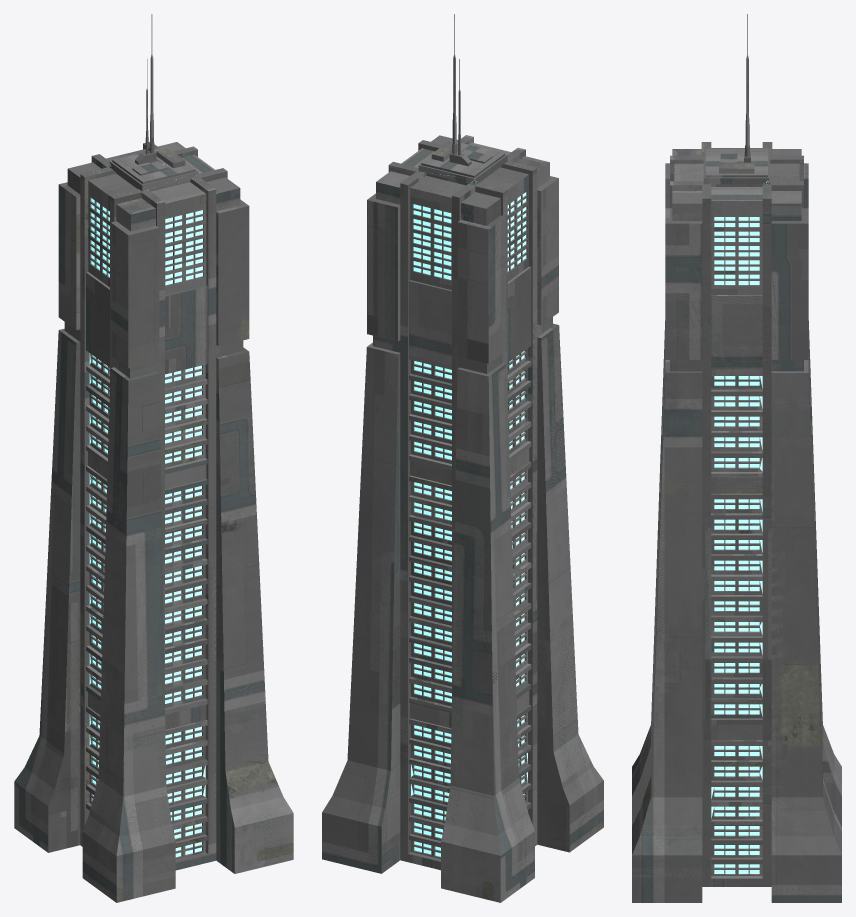
The model's file is Building5.fbx.
3 views of the same model, side by side, from view 1: azimuth 30°, elevation 25°; view 2: azimuth 150°, elevation 25°; view 3: azimuth 270°, elevation 25° (orthographic). The views are drawn at different scales.
Visible parts, largest first — view 1: Building_vi_2; view 2: Building_vi_2; view 3: Building_vi_2.
Boxes of the visible parts, box(x1,y1,x2,y2) form: Building_vi_2: box(14, 14, 293, 902); Building_vi_2: box(322, 14, 603, 902); Building_vi_2: box(632, 14, 841, 902).
Size of the model in its own units: 29.22 by 130 by 29.22.
Materials: 2 (1 with a texture image).
